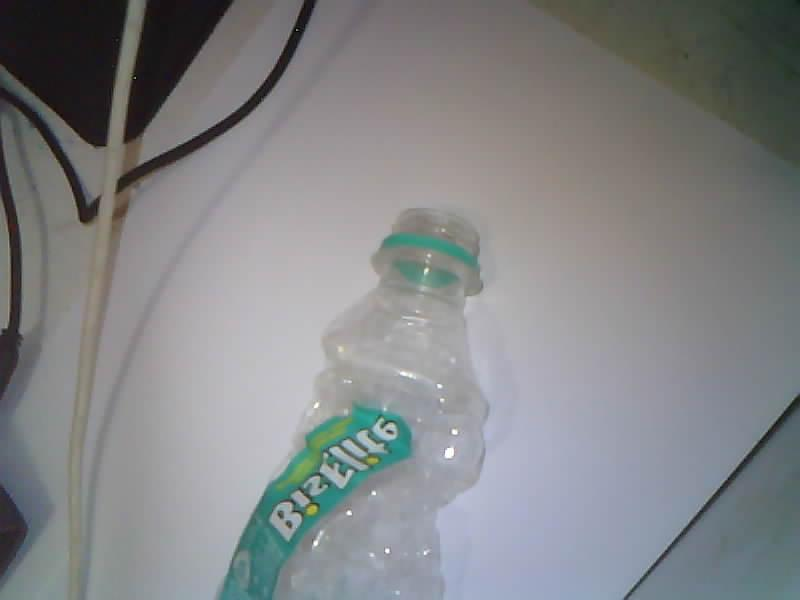non-biodegradable: (219, 209, 487, 599)
